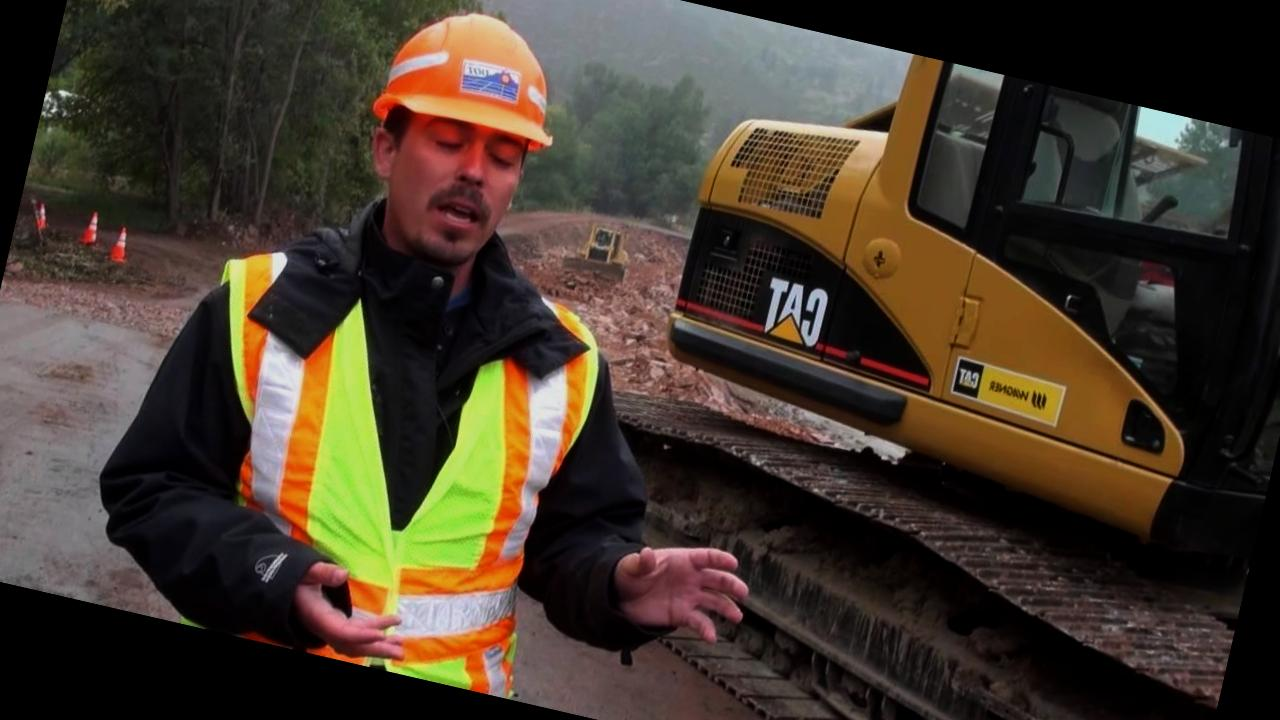helmet: (360, 0, 582, 178)
person: (62, 0, 713, 712)
